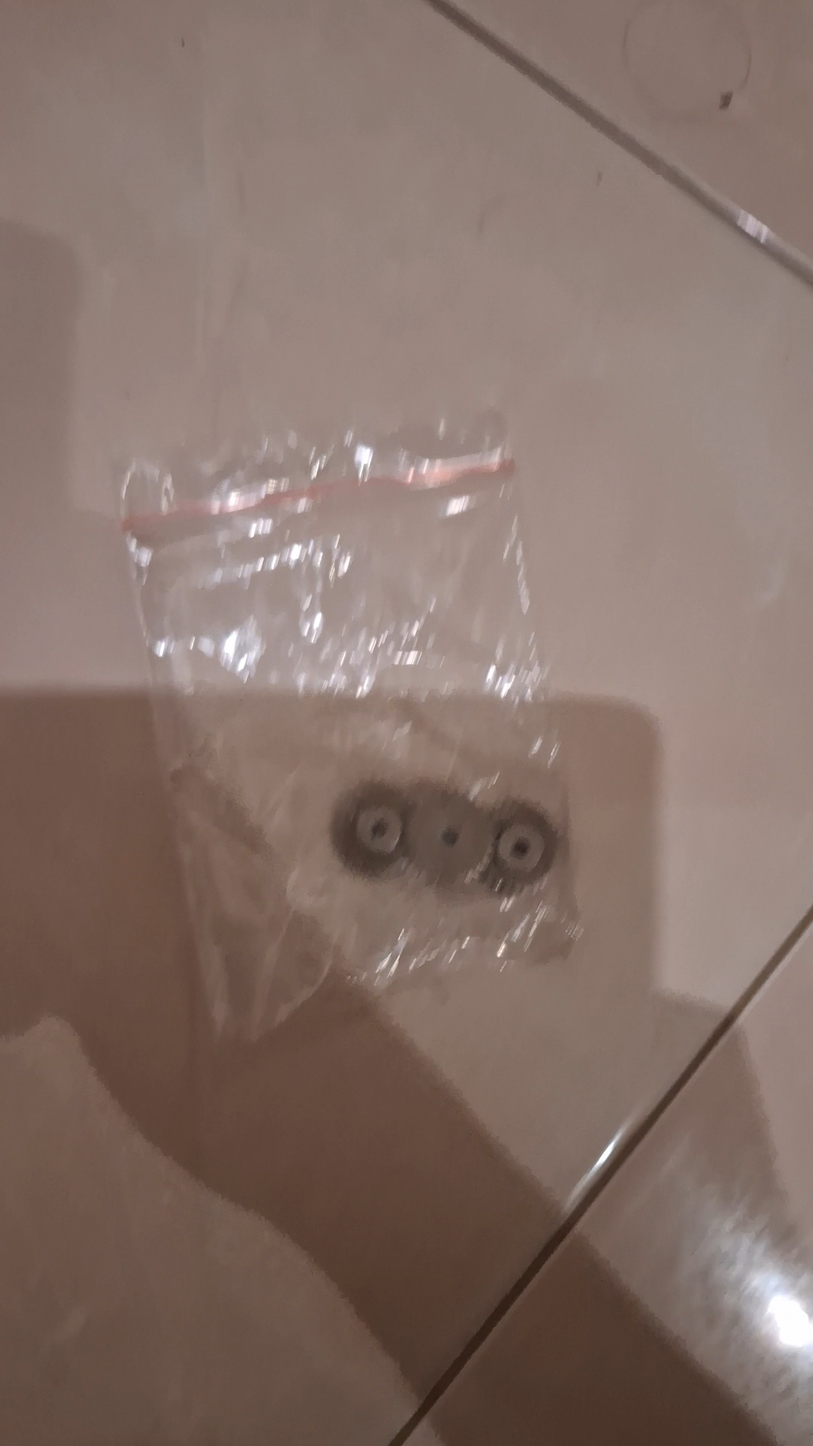spur gear: (405, 785, 494, 889), (340, 785, 406, 873), (494, 810, 556, 891)
